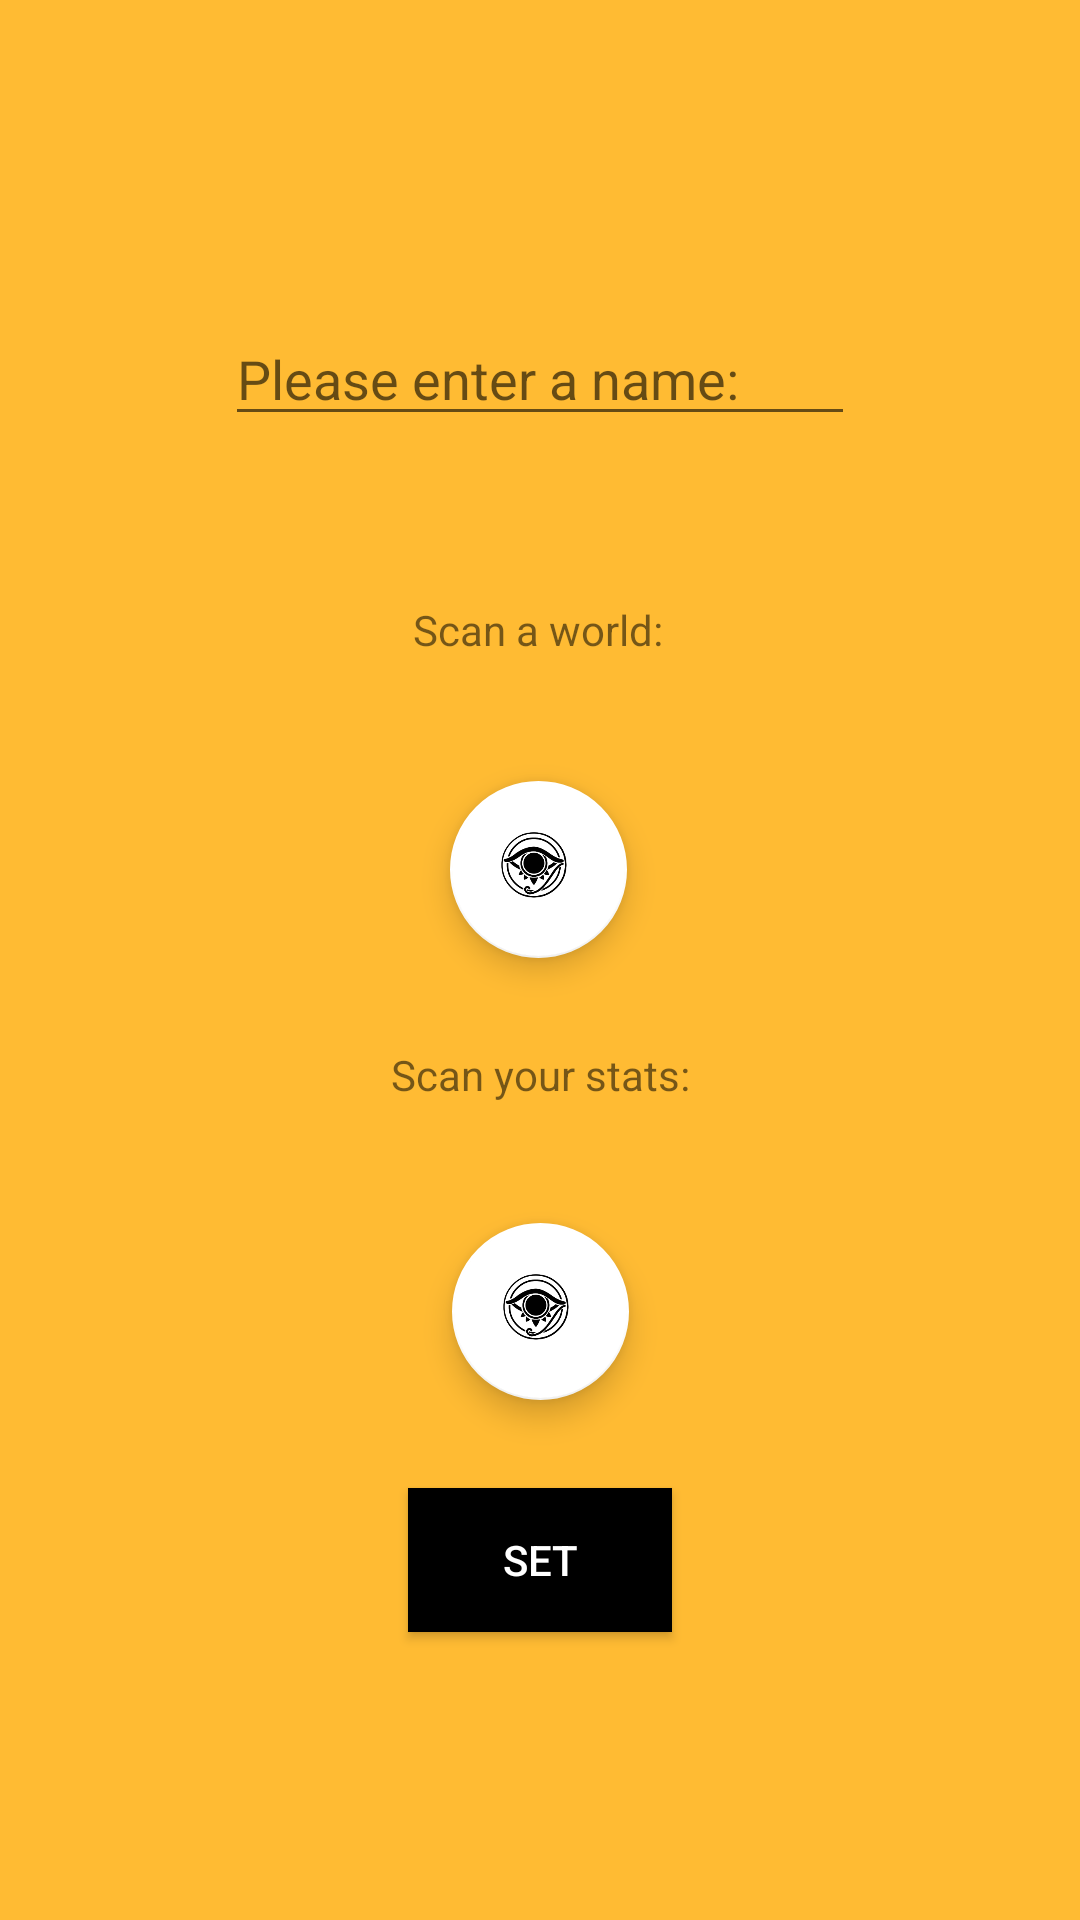

Icon bounding boxes for this 1080 × 1920 phone screenshot, format (x1, y1, x2, y2):
eye: (450, 781, 627, 958), (452, 1223, 629, 1400)
